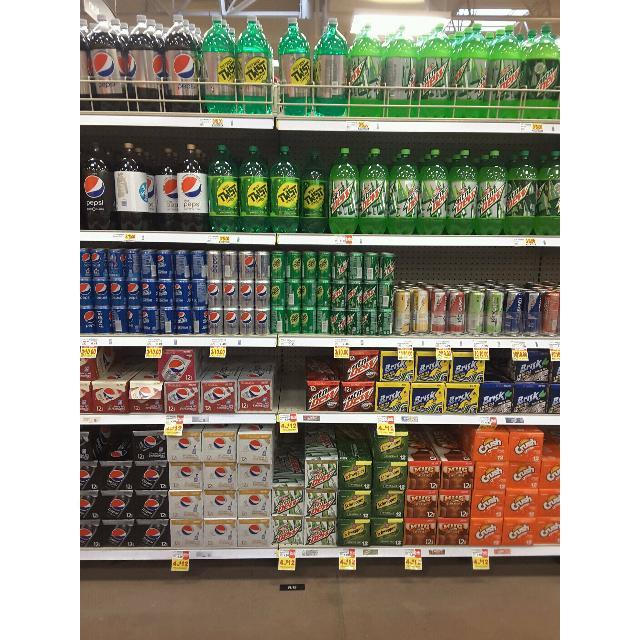empty: (274, 346, 306, 412)
